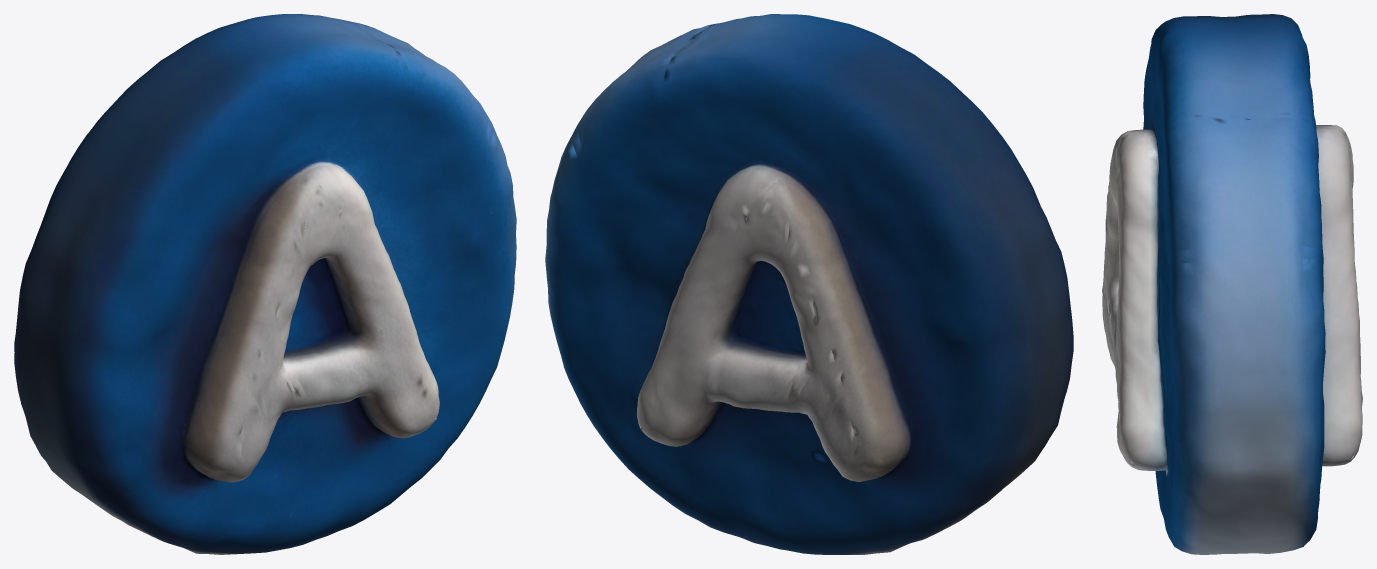
The model's file is Stack 2A - A train.glb.
3 views of the same model, side by side, from view 1: azimuth 30°, elevation 25°; view 2: azimuth 150°, elevation 25°; view 3: azimuth 270°, elevation 25° (orthographic).
Visible parts, largest first — view 1: A train; view 2: A train; view 3: A train.
Boxes of the visible parts, left/top/right/bottom form: A train: left=14, top=14, right=516, bottom=554; A train: left=545, top=14, right=1073, bottom=554; A train: left=1102, top=14, right=1362, bottom=554.
Bounding box in the file's own units: 1 × 0.9927 × 0.4763.
Materials: 1 (1 with a texture image).
